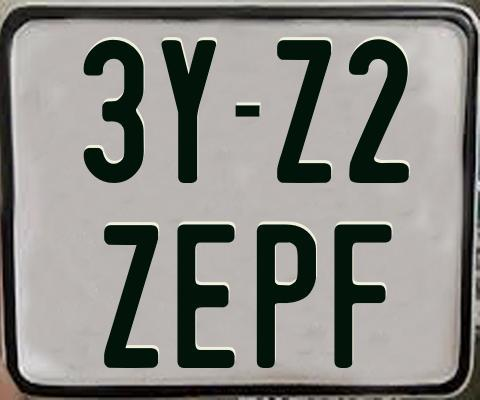2: (348, 37, 414, 185)
3: (82, 39, 148, 187)
E: (175, 223, 236, 371)
F: (334, 224, 395, 374)
P: (257, 221, 319, 365)
Y: (158, 39, 219, 184)
Z: (104, 222, 163, 371), (277, 38, 335, 184)
